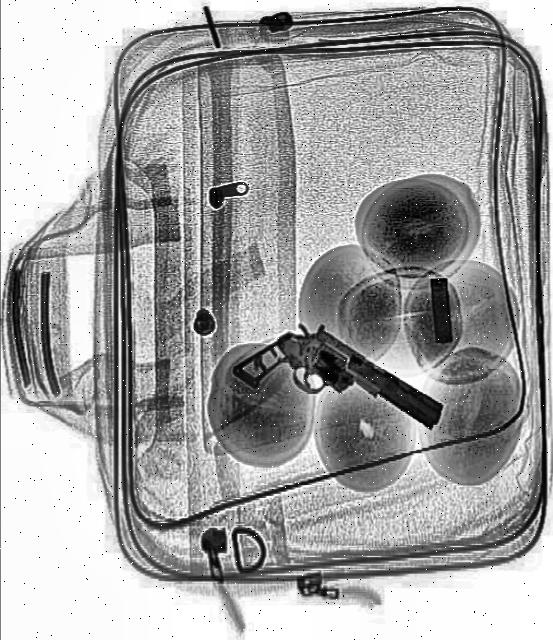Gun: (231, 297, 447, 483)
